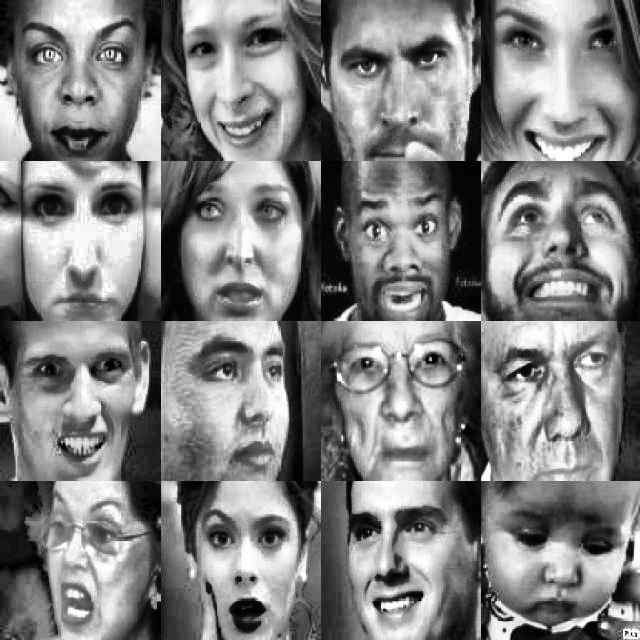angry: (332, 13, 472, 155), (341, 169, 472, 309), (186, 496, 317, 630), (21, 498, 145, 634), (500, 338, 626, 460)
fear: (13, 335, 155, 473)
happy: (493, 14, 630, 160), (345, 501, 467, 637), (498, 189, 624, 315), (181, 16, 297, 150)
neutral: (16, 12, 156, 158), (179, 338, 311, 476), (26, 168, 148, 311)
sad: (332, 332, 468, 483), (179, 176, 303, 312), (492, 510, 630, 619)
